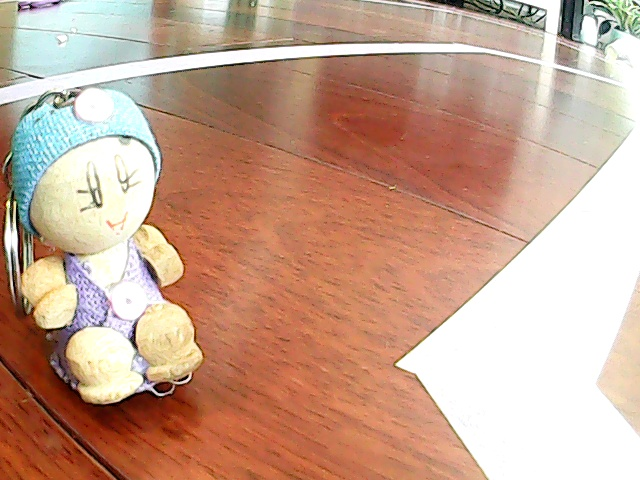pedestrain: (1, 79, 221, 401)
